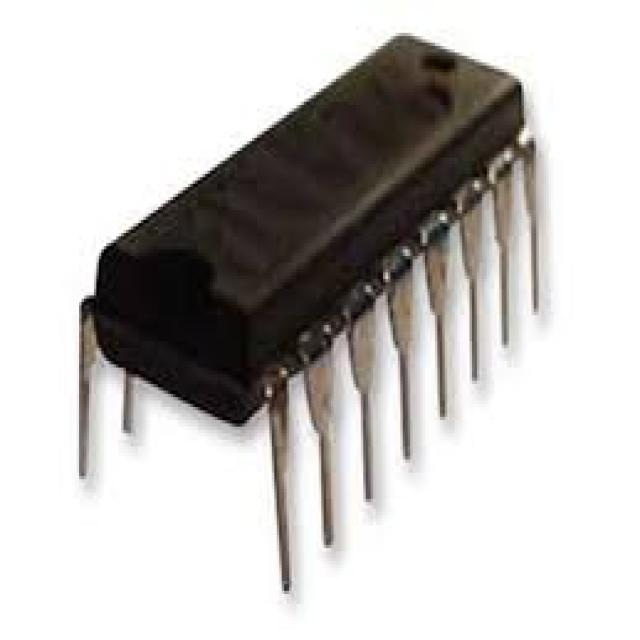IC: (76, 38, 546, 597)
